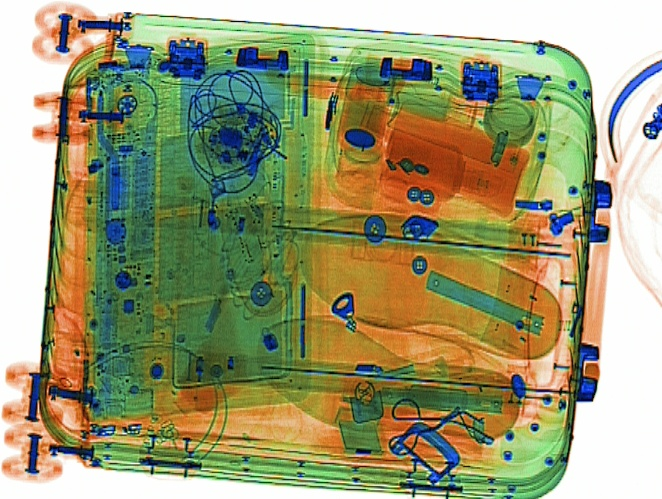pressure: (383, 85, 527, 173)
